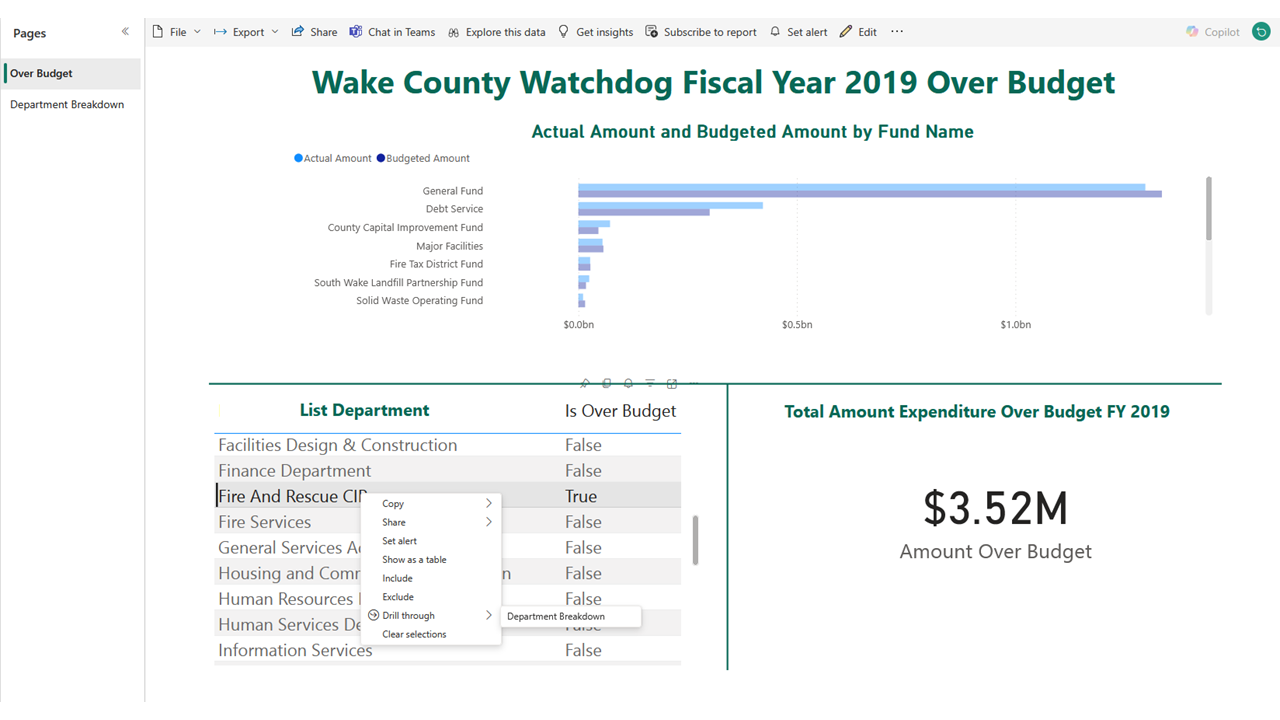

Layout of this report page (visuals, bound fields, positions):
{"tool":"powerbi","page":{"name":"Over Budget","canvas":[1280,720],"ordinal":0},"visuals":[{"type":"textbox","box":[9.7,0,1257.6,67.1],"z":0},{"type":"clusteredBarChart","fields":{"Y":["Sum(Expenditures.Actual Amount)","Sum(Expenditures.Budgeted Amount)"],"Category":["Funds.Fund Name"]},"box":[142,76.8,1085.5,256.8],"z":1000},{"type":"tableEx","fields":{"Values":["Cost Centers.Department","Expenditures.•Is Over Budget"]},"box":[48.6,395.9,578.7,323.9],"z":2000},{"type":"card","fields":{"Values":["Expenditures.Amount Over Budget"]},"box":[710,445.5,517.4,185.8],"z":3000},{"type":"textbox","box":[61.3,395.9,338.5,41.8],"z":4000},{"type":"textbox","box":[710,396.8,474.7,48.6],"z":5000},{"type":"shape","box":[48.6,369.6,1185.7,30.2],"z":6000},{"type":"shape","box":[639,385.2,32.1,334.6],"z":7000}]}

Visuals, with their boxes on the page's 1280x720 design canvas (x1, y1, x2, y2). These are canvas units, not pixel positions in the 1280x720 screenshot, which may show the page scaled, cropped or inside an application window:
textbox: 10:0:1267:67
clusteredBarChart - Sum(Expenditures.Actual Amount) x Sum(Expenditures.Budgeted Amount): 142:77:1228:334
tableEx - Cost Centers.Department x Expenditures.•Is Over Budget: 49:396:627:720
card - Expenditures.Amount Over Budget: 710:446:1227:631
textbox: 61:396:400:438
textbox: 710:397:1185:445
shape: 49:370:1234:400
shape: 639:385:671:720
